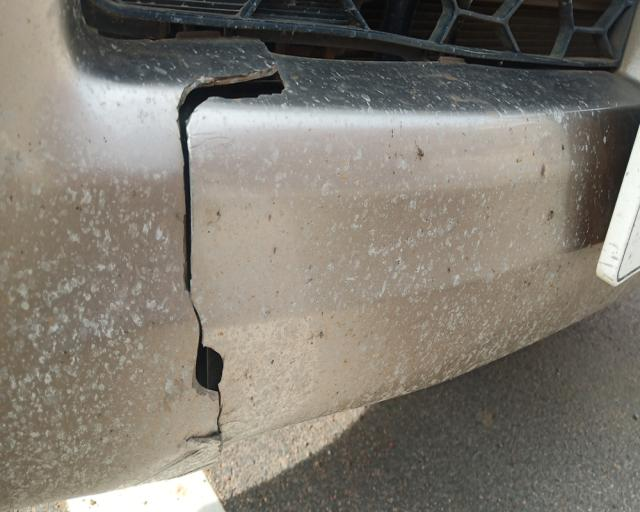crack: (176, 42, 285, 444)
